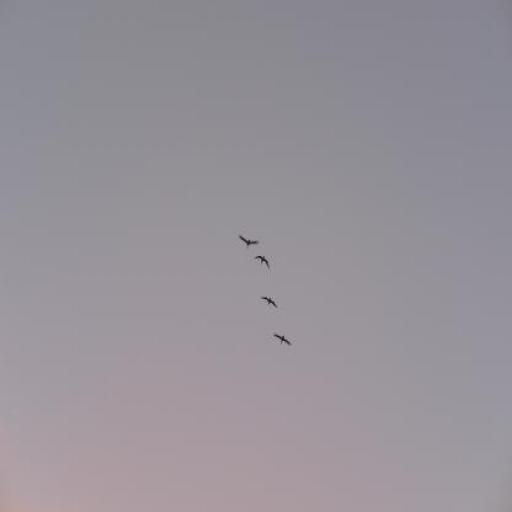bird: (238, 235, 258, 251), (255, 256, 271, 271), (274, 333, 292, 346), (261, 297, 278, 309)
